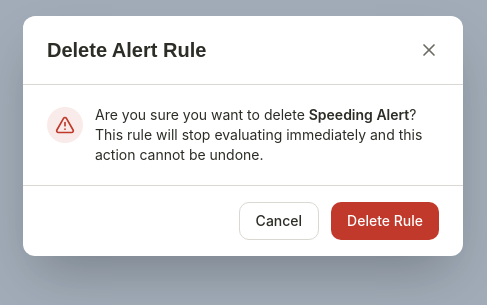
Test case: DeleteAlertRuleModal › shows "Deleting…" and disables buttons while submitting
What coordinates should you click on to do the following:
click the button "Delete Rule"
I would click on:
 (385, 221)
Its box is [331,202,439,240].
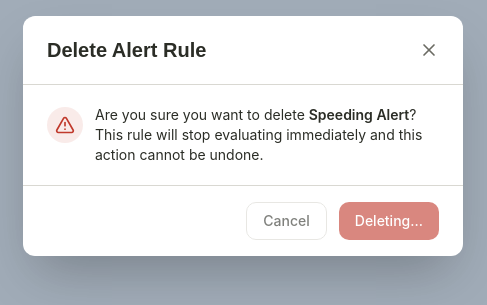
expect the button "Deleting…" is disabled: met, box [339,202,439,240]
expect the button "Cancel" is disabled: met, box [246,202,327,240]
